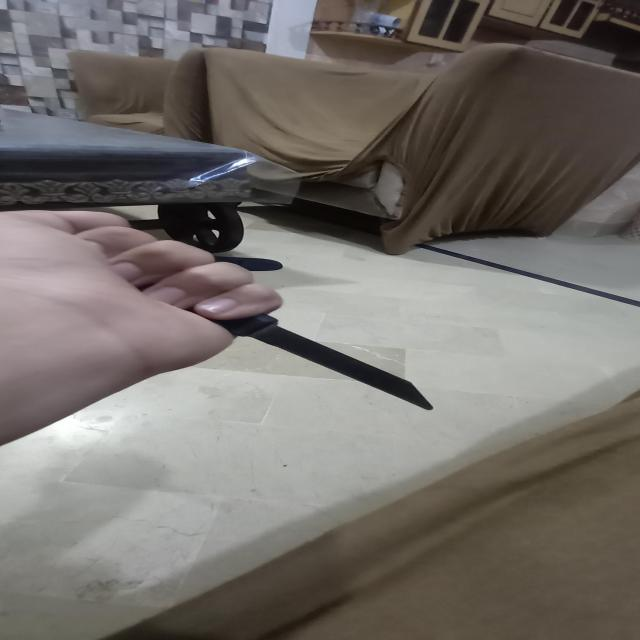Knife: (208, 312, 435, 412)
Person: (0, 210, 285, 454)
